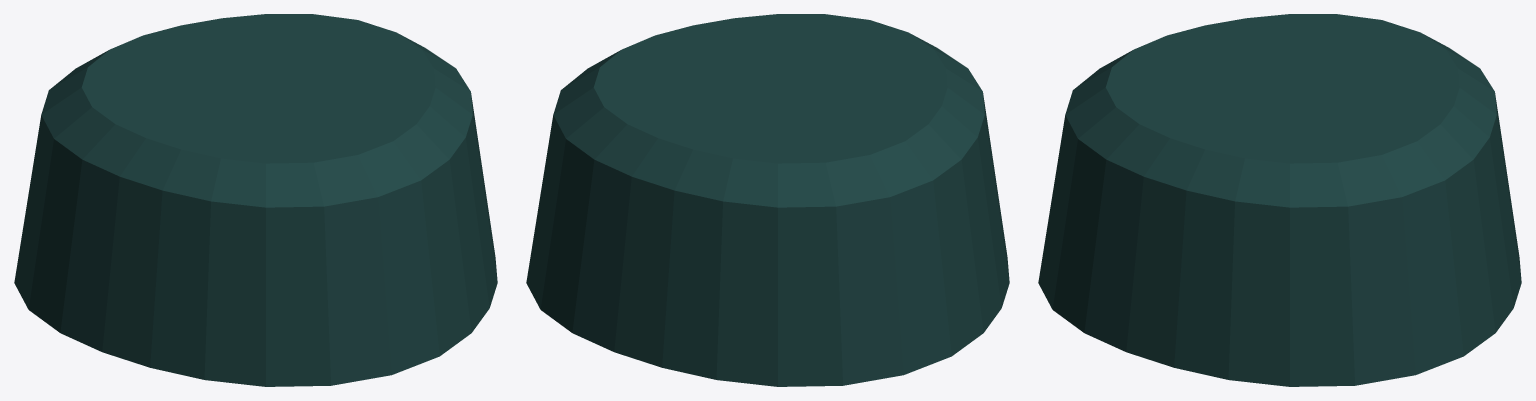
The model's file is substrate.glb.
3 views of the same model, side by side, from view 1: azimuth 30°, elevation 25°; view 2: azimuth 150°, elevation 25°; view 3: azimuth 270°, elevation 25° (orthographic).
Visible parts, largest first — view 1: aquarium_substrate; view 2: aquarium_substrate; view 3: aquarium_substrate.
Part boxes in pixels (x1,y1,x2,y2): aquarium_substrate: (14, 14, 497, 386); aquarium_substrate: (526, 14, 1009, 386); aquarium_substrate: (1038, 14, 1521, 386).
Size of the model in its own units: 2.24 by 1 by 2.24.
